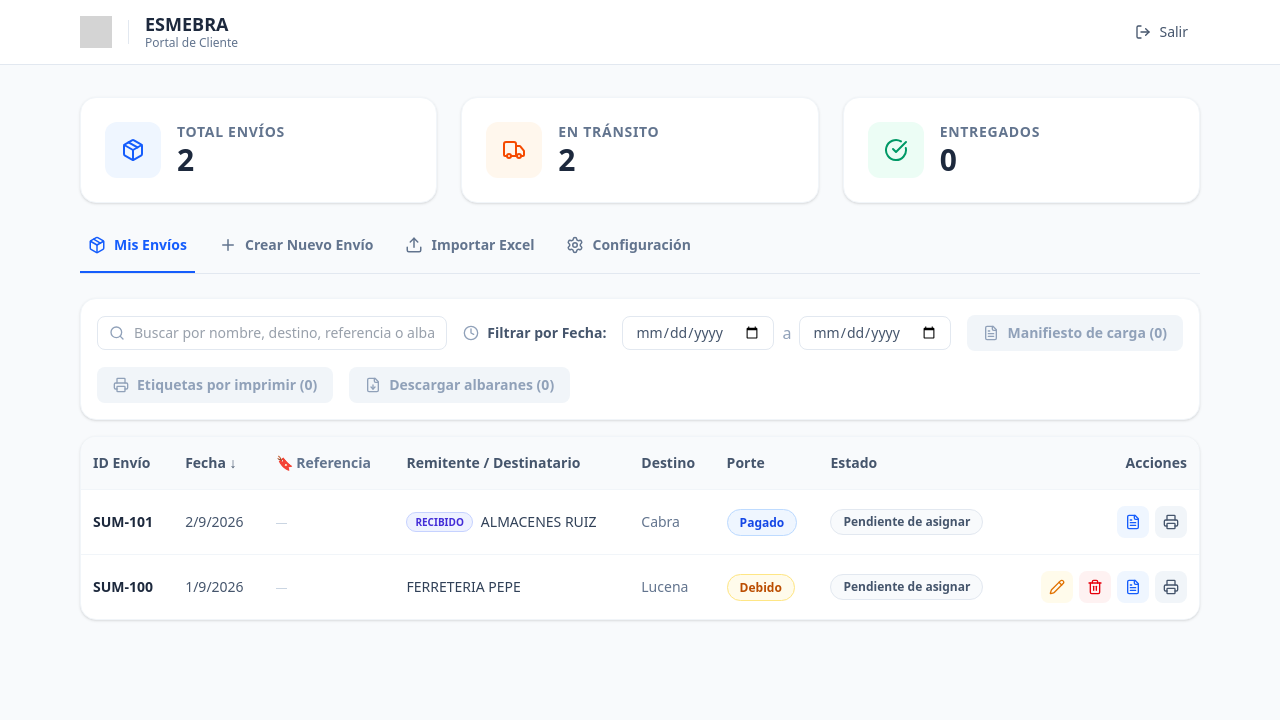
Scenario: ClientDashboard · buscador › encuentra por el destinatario, sin tildes
This screenshot has width=1280, height=720.
Type "ferretería pepe" into the field named "buscar envíos". click: (272, 333)
box: [97,316,447,350]
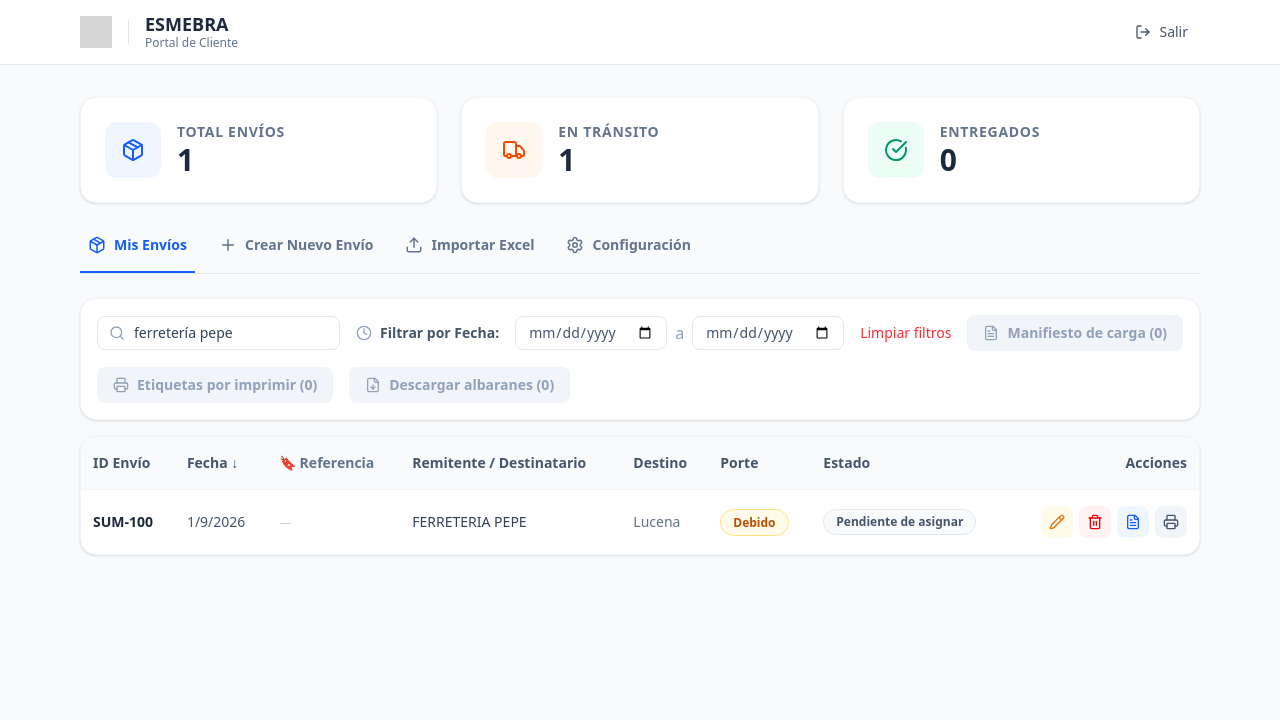
Check: the text "SUM-100" is shown, box [81,490,175,554]
Check: the text "SUM-101" is gone
